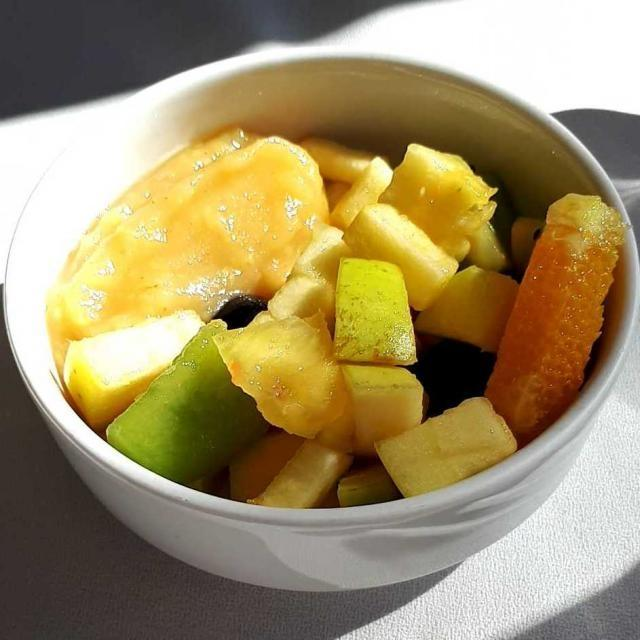fruit-salad: (53, 135, 596, 507)
